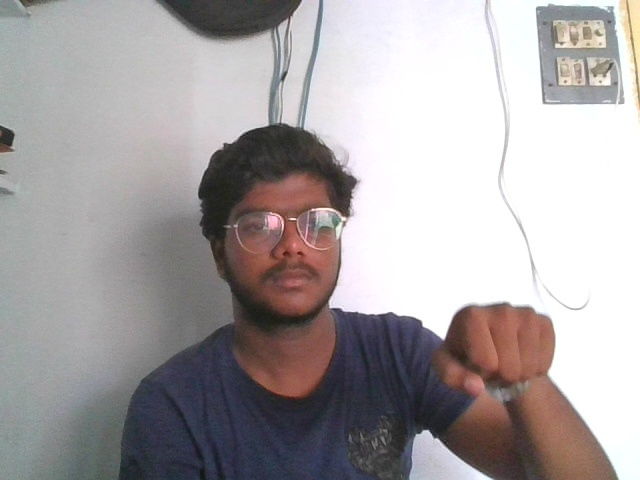Yes: (428, 296, 562, 403)
